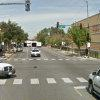Crosswalk: (4, 73, 84, 90)
